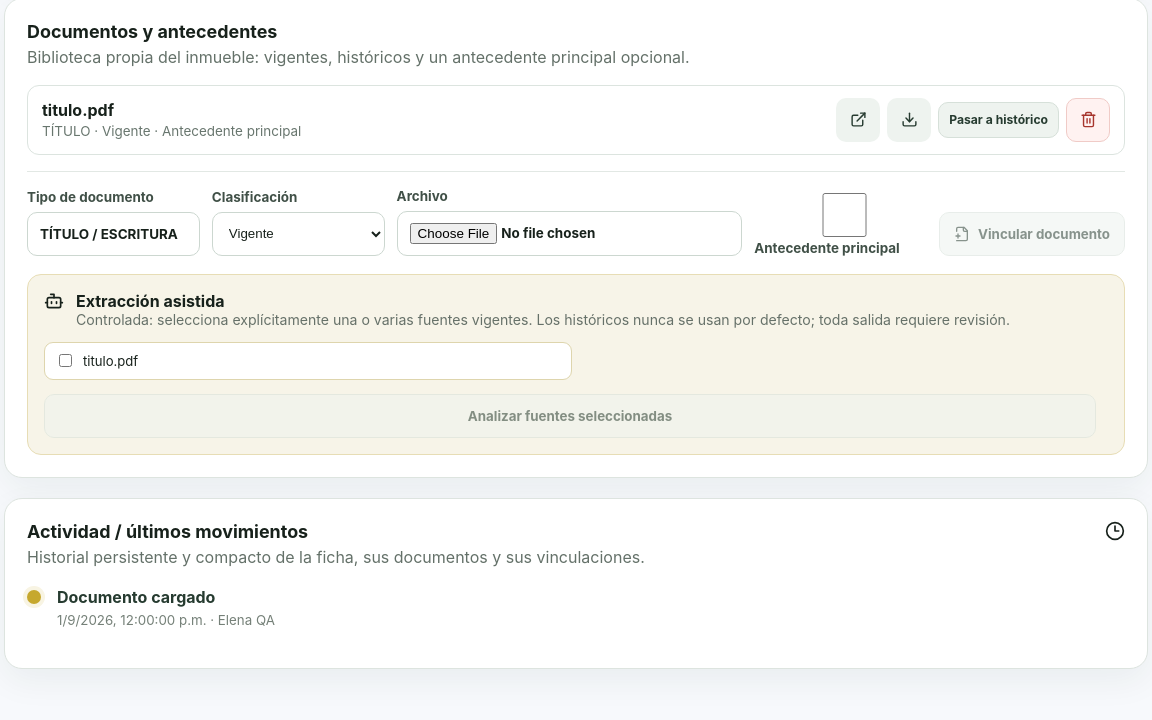
PRD-001 ficha maestra inmobiliaria › presenta datos registrales y colindancias de IA como texto humano, sin objetos ni JSON técnicos
The width and height of the screenshot is (1152, 720).
(page scrolled)
Expected: the text "Extracción asistida" is shown, [76,291,224,311]
Click the checkbox labelled "titulo.pdf" at {"x": 66, "y": 361}, box [59,354,72,367]
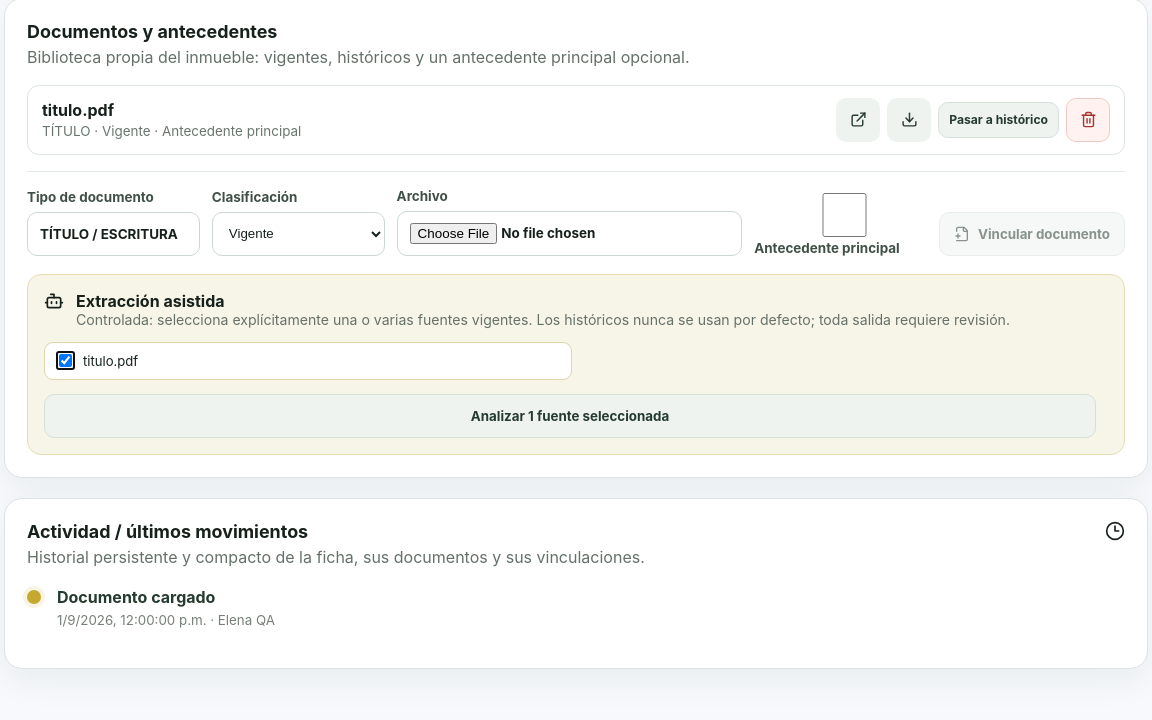
Click the button "Analizar 1 fuente seleccionada" at {"x": 570, "y": 416}, box [44,394,1096,438]
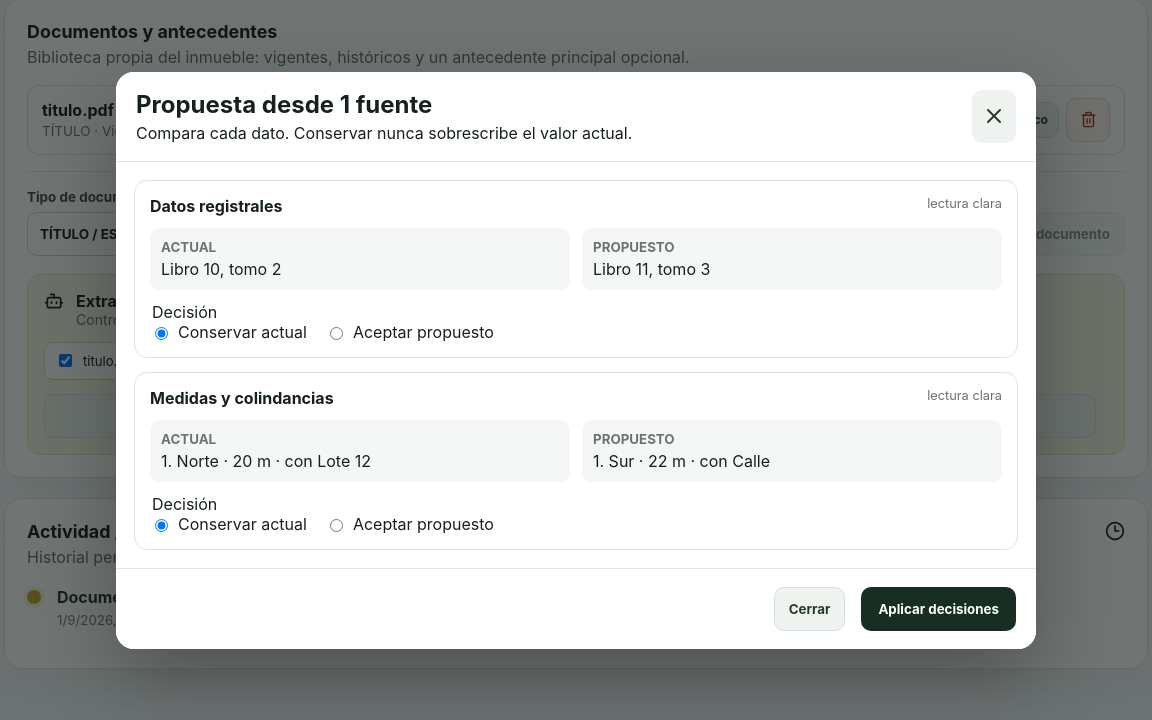
Result: the text "Libro 10, tomo 2" is shown at [161,258,281,278]
Result: the text "1. Norte · 20 m · con Lote 12" is shown at [161,450,371,470]
